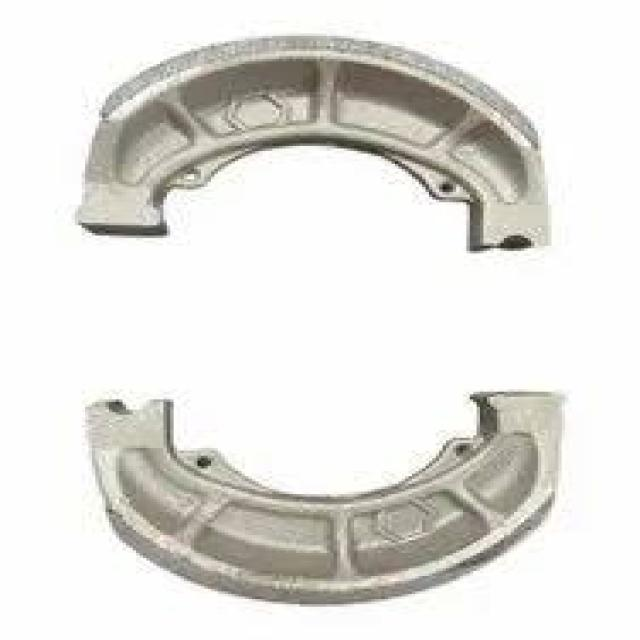brake_pad: (74, 9, 582, 268), (68, 373, 586, 608)
